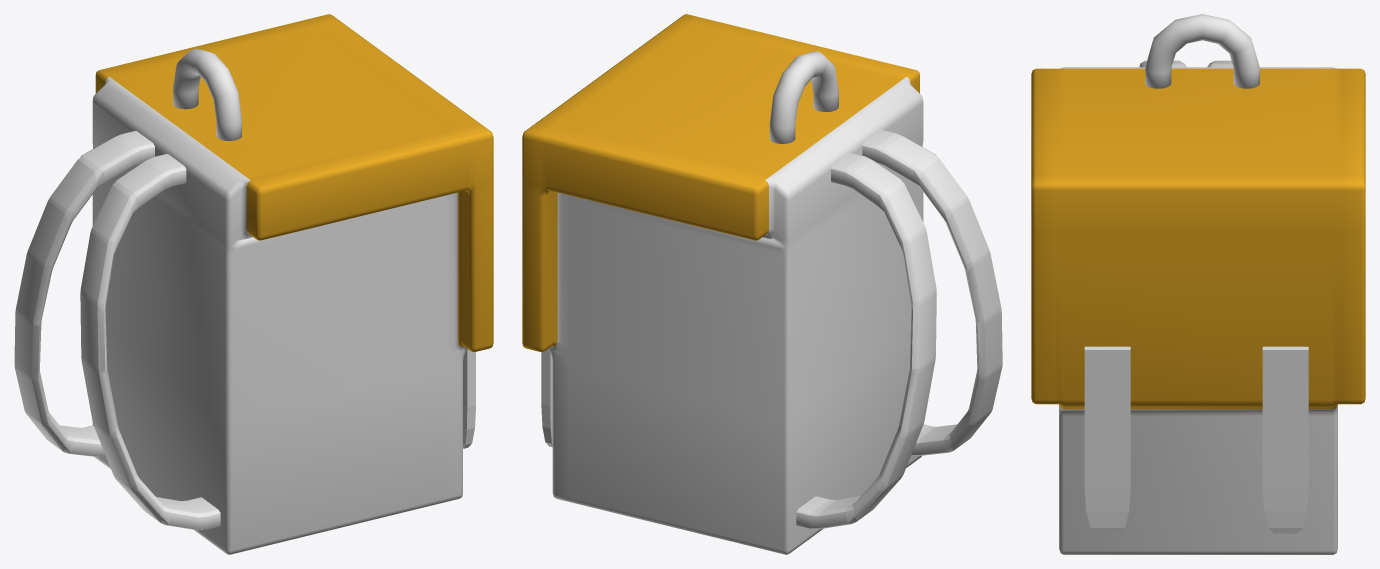
The model's file is backpack_1.fbx.
3 views of the same model, side by side, from view 1: azimuth 30°, elevation 25°; view 2: azimuth 150°, elevation 25°; view 3: azimuth 270°, elevation 25° (orthographic).
Visible parts, largest first — view 1: Cube.006, Cube.011, Cube.009, Cylinder.005, Cube.008; view 2: Cube.006, Cube.009, Cube.011, Cylinder.005, Cube.007; view 3: Cube.006, Cube.007, Cube.008, Cylinder.005.
Part boxes in pixels (bbox=[...]): Cube.006: bbox=[92, 14, 493, 554]; Cube.011: bbox=[80, 154, 220, 530]; Cube.009: bbox=[14, 131, 154, 456]; Cylinder.005: bbox=[173, 48, 241, 140]; Cube.008: bbox=[463, 349, 475, 448]; Cube.006: bbox=[522, 14, 923, 554]; Cube.009: bbox=[796, 153, 936, 529]; Cube.011: bbox=[862, 130, 1002, 455]; Cylinder.005: bbox=[769, 51, 838, 143]; Cube.007: bbox=[541, 349, 552, 447]; Cube.006: bbox=[1031, 67, 1365, 554]; Cube.007: bbox=[1262, 346, 1308, 533]; Cube.008: bbox=[1084, 346, 1130, 533]; Cylinder.005: bbox=[1145, 14, 1259, 88].
Bounding box in the file's own units: 307 × 355 × 240.
